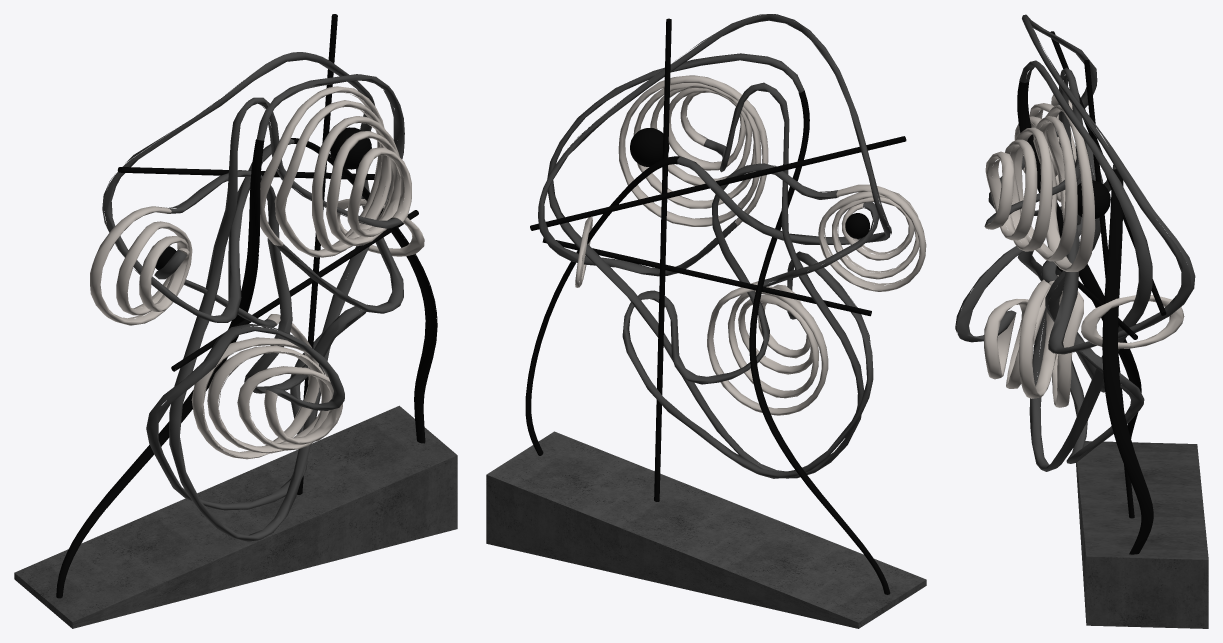
File: SCREAMER-BLCK-v52.glb
3 views of the same model, side by side, from view 1: azimuth 30°, elevation 25°; view 2: azimuth 150°, elevation 25°; view 3: azimuth 270°, elevation 25° (orthographic). The views are drawn at different scales.
Parts seen in each view (by area): view 1: Layer 05, GOVDE, HOPARLER.001, AYAK.001; view 2: Layer 05, GOVDE, HOPARLER.001, AYAK.001; view 3: Layer 05, HOPARLER.001, GOVDE, AYAK.001.
Boxes of the visible parts, bbox=[...] form: Layer 05: bbox=[14, 405, 457, 628]; GOVDE: bbox=[102, 52, 404, 541]; HOPARLER.001: bbox=[90, 86, 424, 459]; AYAK.001: bbox=[56, 14, 437, 598]; Layer 05: bbox=[486, 431, 926, 628]; GOVDE: bbox=[538, 14, 891, 478]; HOPARLER.001: bbox=[575, 75, 926, 415]; AYAK.001: bbox=[525, 18, 906, 594]; Layer 05: bbox=[1076, 441, 1208, 628]; HOPARLER.001: bbox=[984, 94, 1184, 407]; GOVDE: bbox=[955, 14, 1195, 471]; AYAK.001: bbox=[1017, 31, 1166, 554].
Size of the model in its own units: 0.776 by 1.02 by 0.457.
4 materials, 1 textured.
